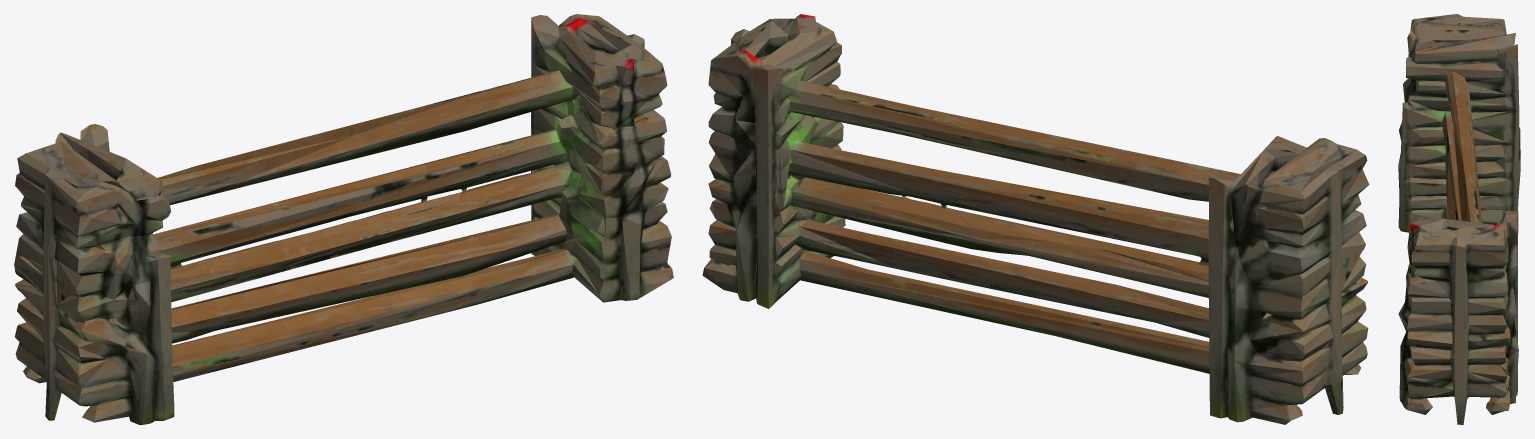
File: village_rail_fence_corner_01.glb
3 views of the same model, side by side, from view 1: azimuth 30°, elevation 25°; view 2: azimuth 150°, elevation 25°; view 3: azimuth 270°, elevation 25° (orthographic). The views are drawn at different scales.
Visible parts, largest first — view 1: geometry_0; view 2: geometry_0; view 3: geometry_0.
Boxes of the visible parts, x1=… form: geometry_0: x1=14, y1=14, x2=673, y2=424; geometry_0: x1=702, y1=14, x2=1369, y2=424; geometry_0: x1=1398, y1=14, x2=1520, y2=424.
Bounding box in the file's own units: 0.9982 × 0.3944 × 0.2301.
Materials: 1 (1 with a texture image).
